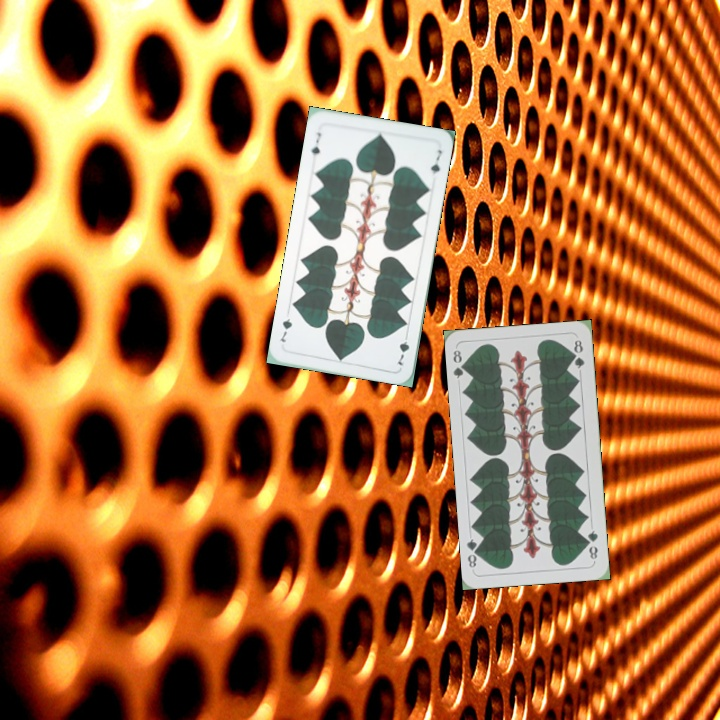G7: (393, 329, 412, 368), (307, 128, 323, 158)
G8: (449, 346, 469, 381), (583, 526, 601, 564)
